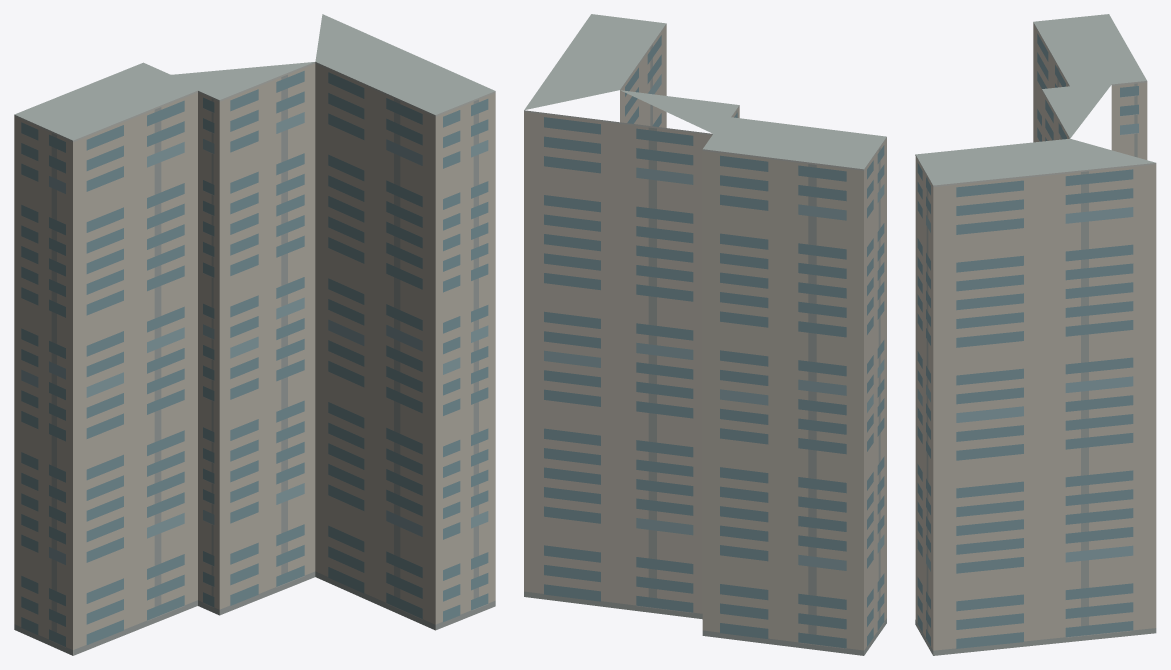
The model's file is residential-402e4f0d-51a1-4e36-b0a1-4fbf56ec8062.glb.
The picture shows the model from 3 angles, left to right: view 1: azimuth 30°, elevation 25°; view 2: azimuth 150°, elevation 25°; view 3: azimuth 270°, elevation 25°; orthographic projection. The views are drawn at different scales.
Visible parts, largest first — view 1: residential-402e4f0d-51a1-4e36-b0a1-4fbf56ec8062.tmp; view 2: residential-402e4f0d-51a1-4e36-b0a1-4fbf56ec8062.tmp; view 3: residential-402e4f0d-51a1-4e36-b0a1-4fbf56ec8062.tmp.
Boxes of the visible parts, box(x1,y1,x2,y2) form: residential-402e4f0d-51a1-4e36-b0a1-4fbf56ec8062.tmp: box(14, 14, 495, 655); residential-402e4f0d-51a1-4e36-b0a1-4fbf56ec8062.tmp: box(524, 14, 886, 655); residential-402e4f0d-51a1-4e36-b0a1-4fbf56ec8062.tmp: box(915, 14, 1156, 655).
Size of the model in its own units: 57.89 by 74 by 34.36.
